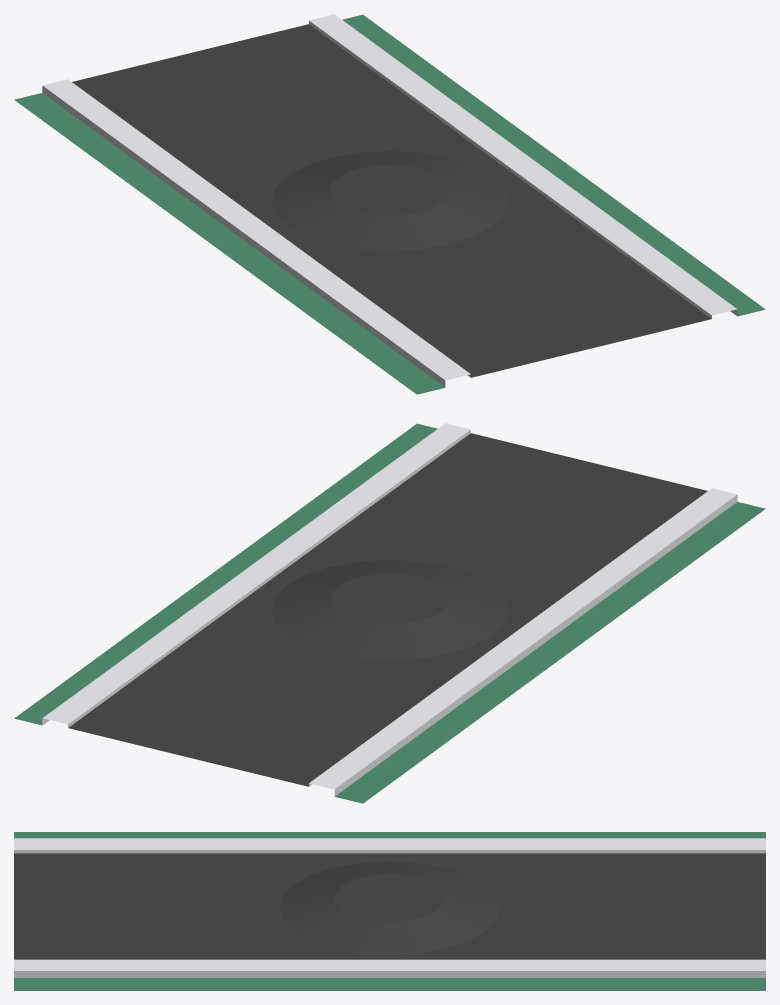
File: roadStraightLongBumpRound.obj
3 views of the same model, one above another, from view 1: azimuth 30°, elevation 25°; view 2: azimuth 150°, elevation 25°; view 3: azimuth 270°, elevation 25° (orthographic). The views are drawn at different scales.
Parts seen in each view (by area): view 1: roadStraightLongBumpRound; view 2: roadStraightLongBumpRound; view 3: roadStraightLongBumpRound.
Part boxes in pixels (bbox=[...]): roadStraightLongBumpRound: bbox=[14, 14, 765, 394]; roadStraightLongBumpRound: bbox=[14, 423, 765, 803]; roadStraightLongBumpRound: bbox=[14, 832, 765, 990].
Size of the model in its own units: 1 by 0.04 by 2.
